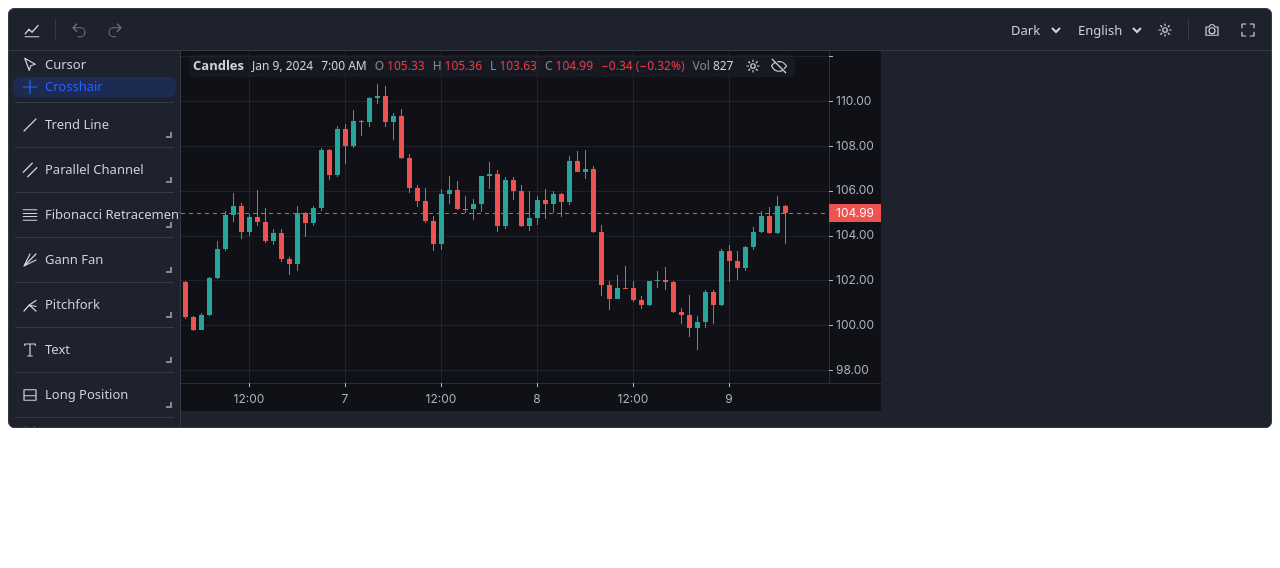
Test: <ChartInterface> › closes the menu on outside click
Right-click the picture named "Financial chart" at (531, 231), box [181,51,881,411]
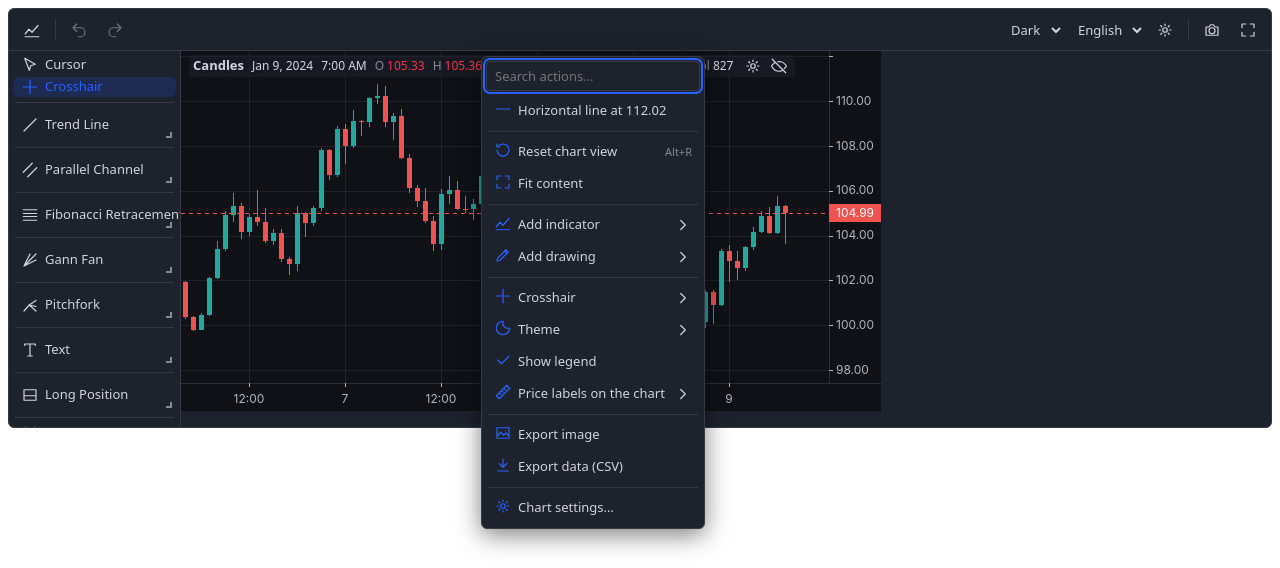
Expected: the menu with class "mc-ui-menu" is shown, [481,56,705,529]
Press the mouse on the element that starts with "Cursor" at (640, 218), box [8,8,1272,428]
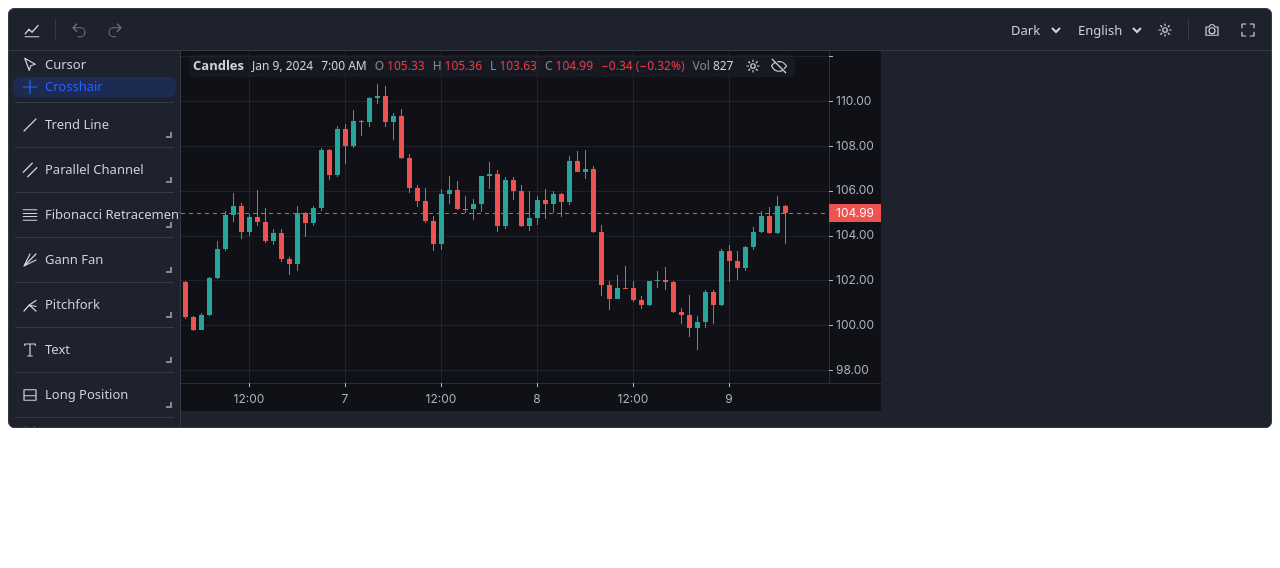
Expected: the menu with class "mc-ui-menu" is gone
